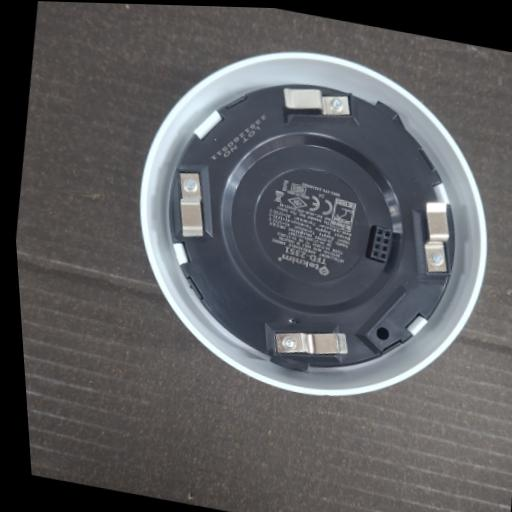yaysiz: (258, 309, 363, 379), (400, 195, 465, 286), (161, 157, 225, 247), (280, 80, 354, 122)
